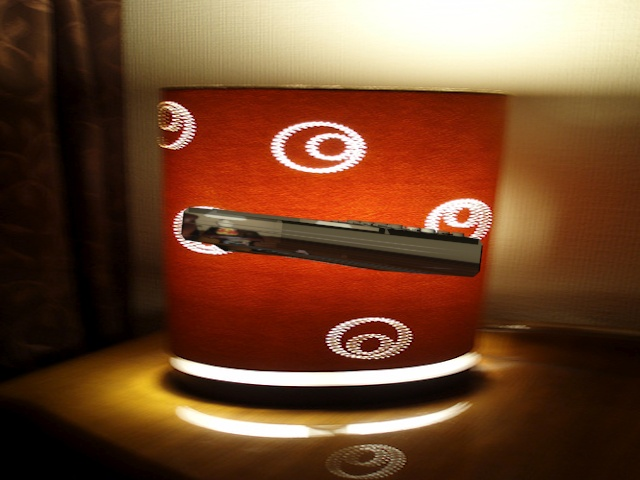mobile_phone: (176, 201, 496, 288)
